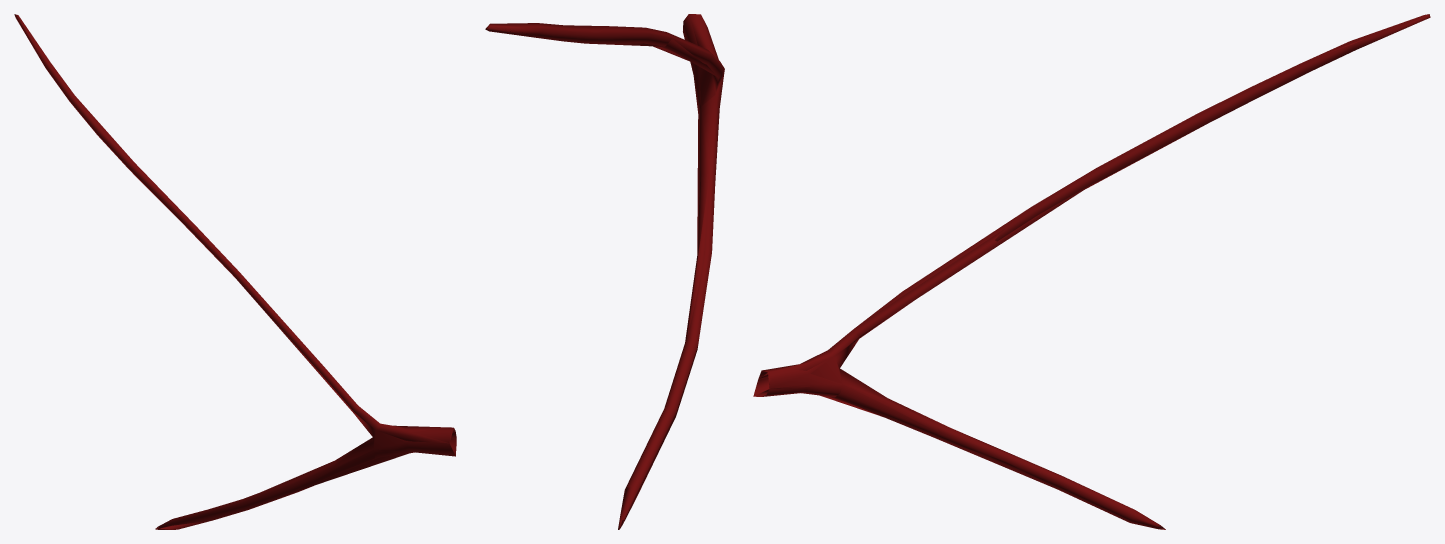
The model's file is R arteria thoracodorsalis.fbx.
The picture shows the model from 3 angles, left to right: view 1: azimuth 30°, elevation 25°; view 2: azimuth 150°, elevation 25°; view 3: azimuth 270°, elevation 25°; orthographic projection. The views are drawn at different scales.
Visible parts, largest first — view 1: R arteria thoracodorsalis, R arteria thoracodorsalis low; view 2: R arteria thoracodorsalis, R arteria thoracodorsalis low; view 3: R arteria thoracodorsalis, R arteria thoracodorsalis low.
Boxes of the visible parts, x1,y1,x2,y2 form: R arteria thoracodorsalis: (14, 14, 456, 529); R arteria thoracodorsalis low: (24, 31, 456, 529); R arteria thoracodorsalis: (485, 14, 724, 529); R arteria thoracodorsalis low: (505, 15, 722, 528); R arteria thoracodorsalis: (755, 14, 1430, 529); R arteria thoracodorsalis low: (753, 38, 1365, 510).
Bounding box in the file's own units: 4.11 × 10.86 × 13.3.
